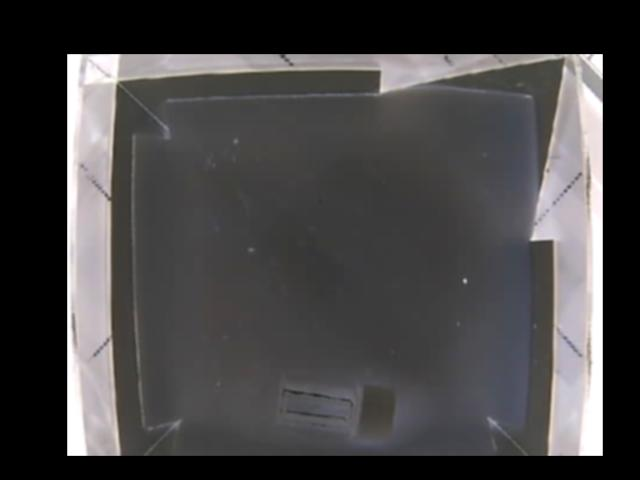Bottle: (277, 374, 396, 441)
